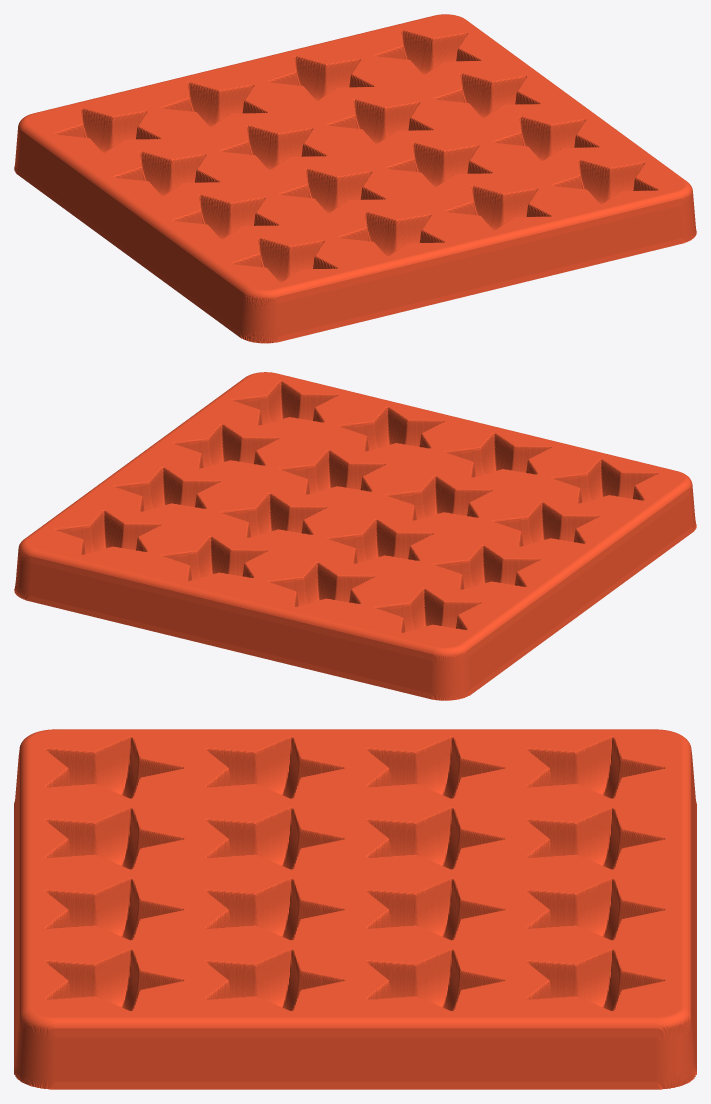
The model's file is mold.glb.
The picture shows the model from 3 angles, top to bottom: view 1: azimuth 30°, elevation 25°; view 2: azimuth 150°, elevation 25°; view 3: azimuth 270°, elevation 25°; orthographic projection. The views are drawn at different scales.
Visible parts, largest first — view 1: geometry_0; view 2: geometry_0; view 3: geometry_0.
Part boxes in pixels (x1=…): geometry_0: x1=14, y1=14, x2=696, y2=343; geometry_0: x1=14, y1=372, x2=696, y2=700; geometry_0: x1=14, y1=729, x2=696, y2=1089.
Size of the model in its own units: 0.1569 by 0.0159 by 0.1507.
